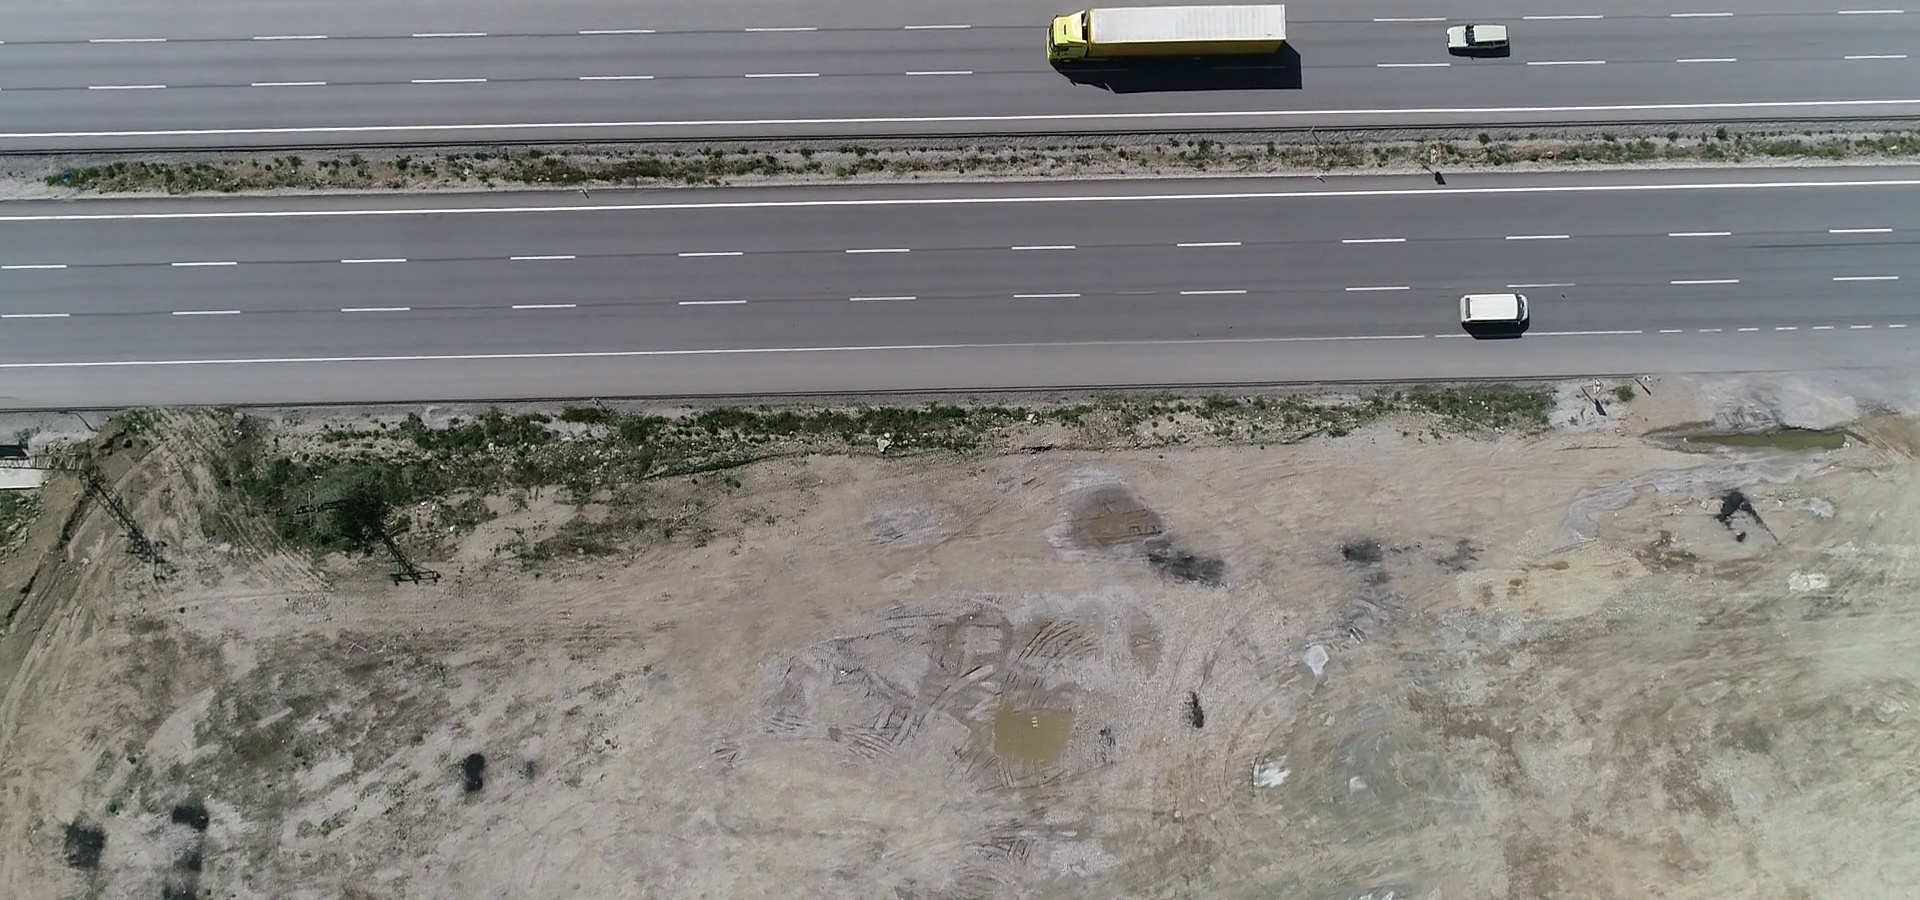arac: (1040, 4, 1296, 72), (1433, 15, 1520, 62), (1455, 290, 1537, 337)
